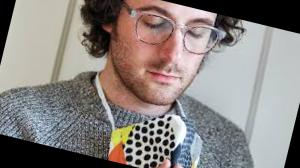mask_weared_incorrect: (107, 4, 223, 143)
